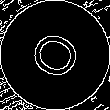O_SE: (23, 25, 87, 85)
